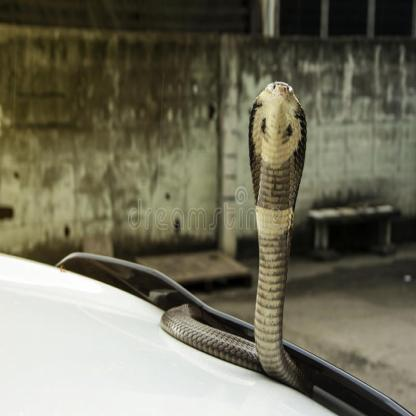Snake: (163, 77, 318, 389)
